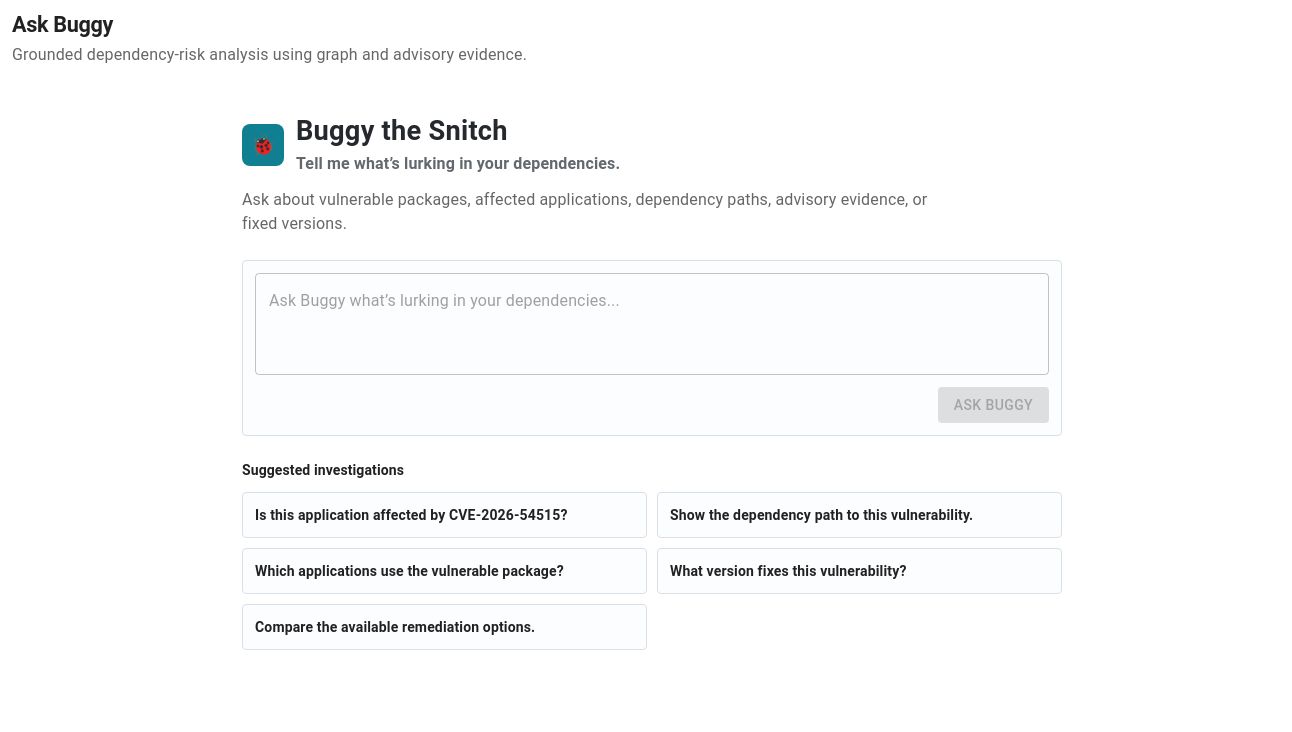
Test: AssistantView › uses a suggested investigation to populate the question
Click the button "Is this application affected by CVE-2026-54515?" at (444, 515), box top-left (242, 492), bottom-right (647, 538)
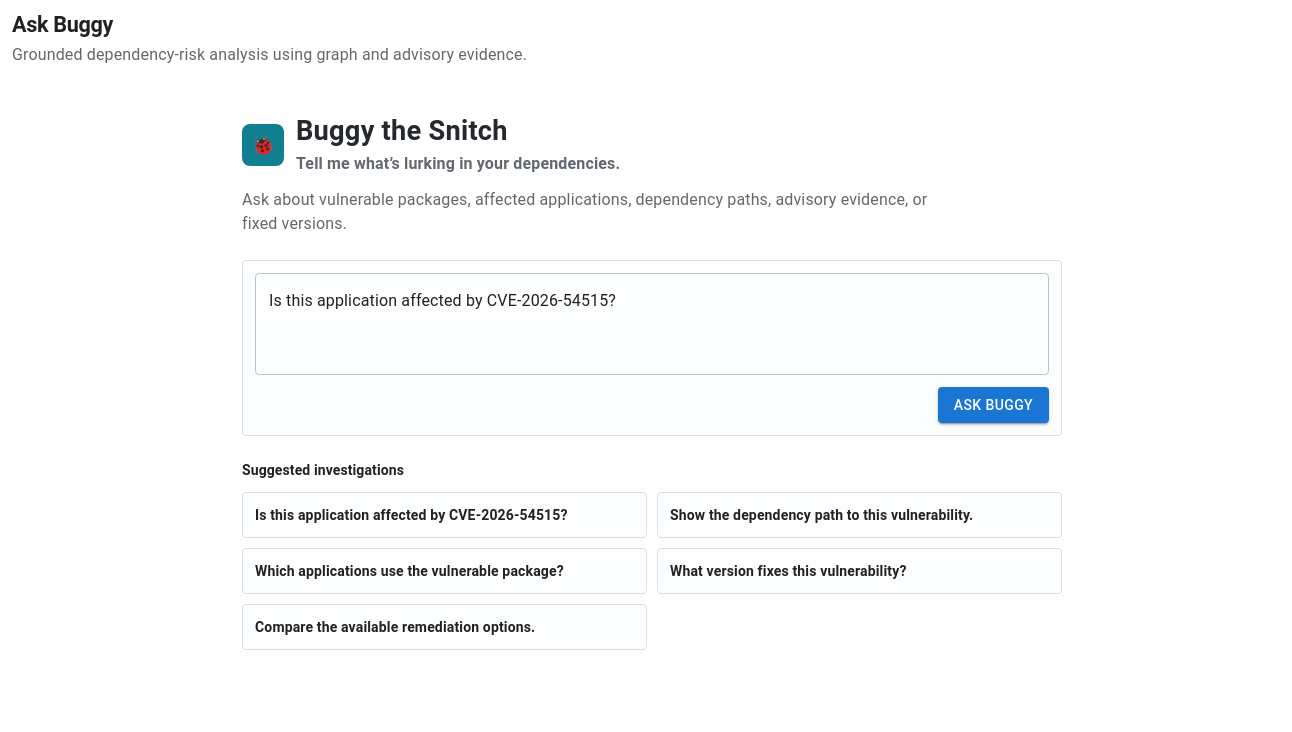
Expected: the text box named "Dependency risk investigation prompt" holds "Is this application affected by CVE-2026-54515?", top-left (269, 289), bottom-right (1035, 358)
